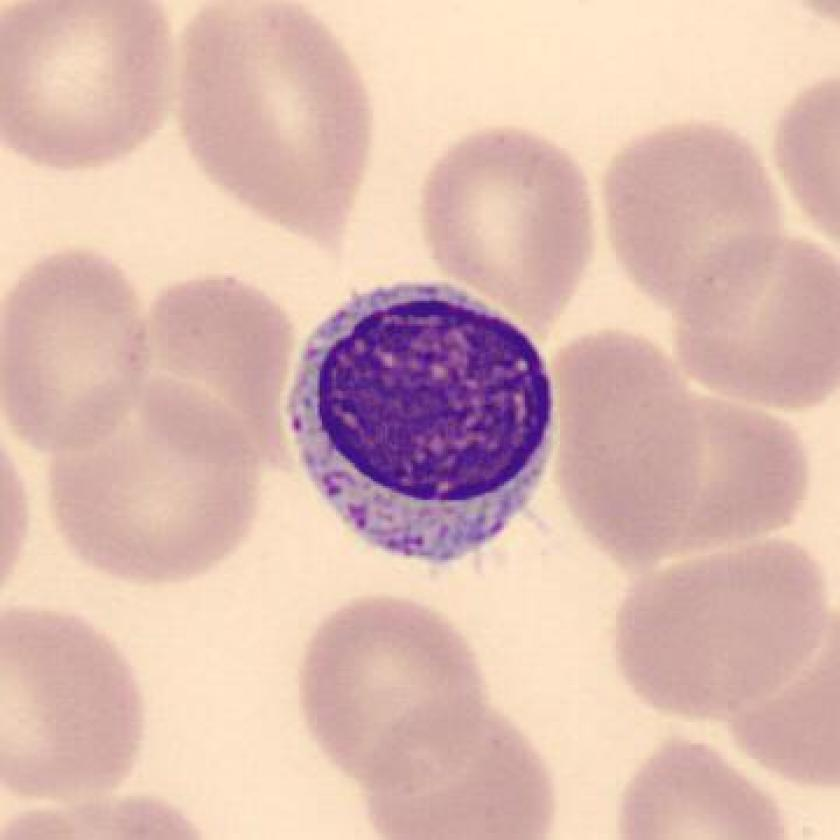lymphocyte: (274, 267, 566, 584)
